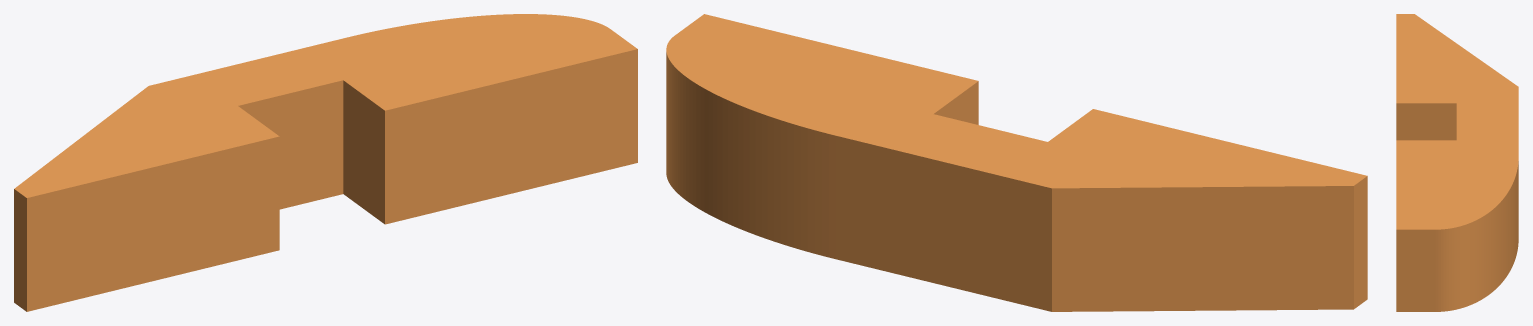
The model's file is WEST_REAR_SPACER_DEPTH_LINGGONG_trial.glb.
3 renders of one model, left to right at view 1: azimuth 30°, elevation 25°; view 2: azimuth 150°, elevation 25°; view 3: azimuth 270°, elevation 25°, orthographic. The views are drawn at different scales.
Visible parts, largest first — view 1: geometry_0; view 2: geometry_0; view 3: geometry_0.
Part boxes in pixels (x1=…): geometry_0: x1=14, y1=14, x2=637, y2=311; geometry_0: x1=666, y1=14, x2=1367, y2=311; geometry_0: x1=1396, y1=14, x2=1518, y2=311.
Size of the model in its own units: 0.893 by 0.159 by 0.214.
